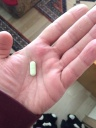Aferin: (29, 60, 37, 77)
